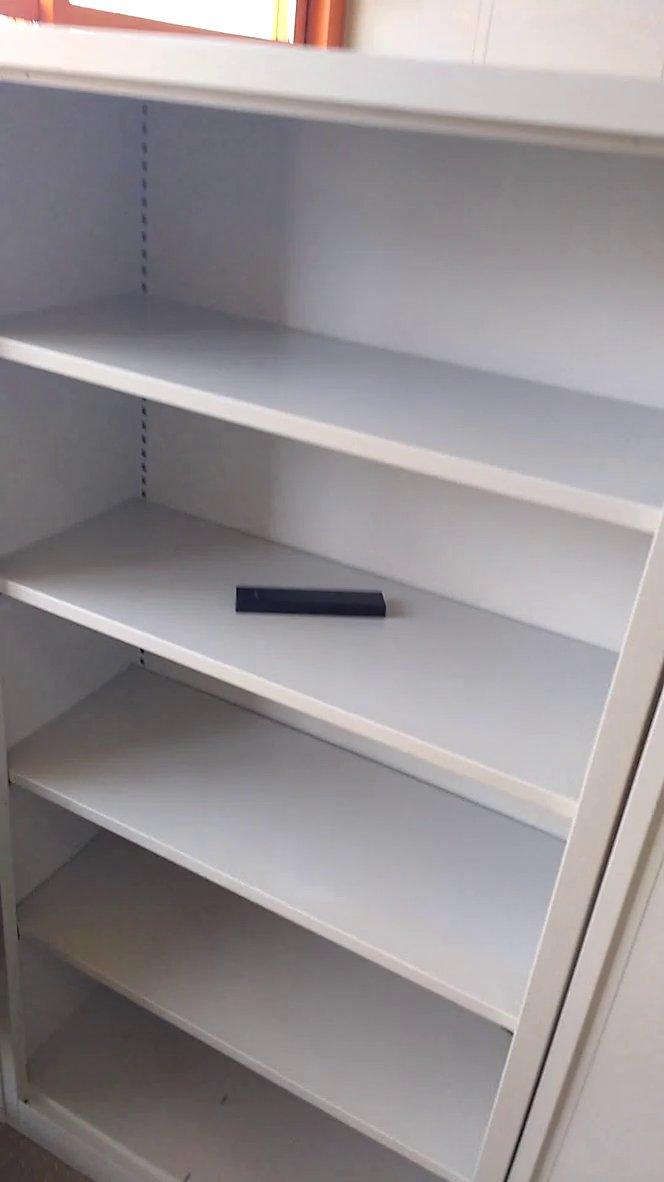remote: (225, 576, 397, 630)
